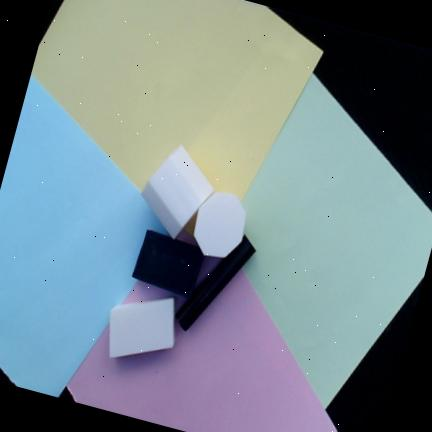Cilindro: (174, 234, 256, 332)
Paralelepipedo: (131, 229, 204, 299), (109, 297, 175, 358)
Prisma_hexagonal: (140, 144, 214, 240), (193, 192, 246, 258)
